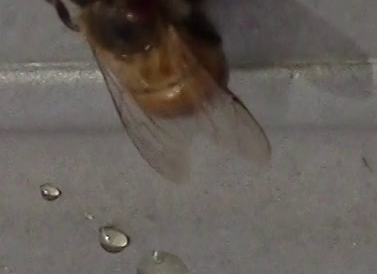Varroa destructor: (118, 1, 158, 26)
